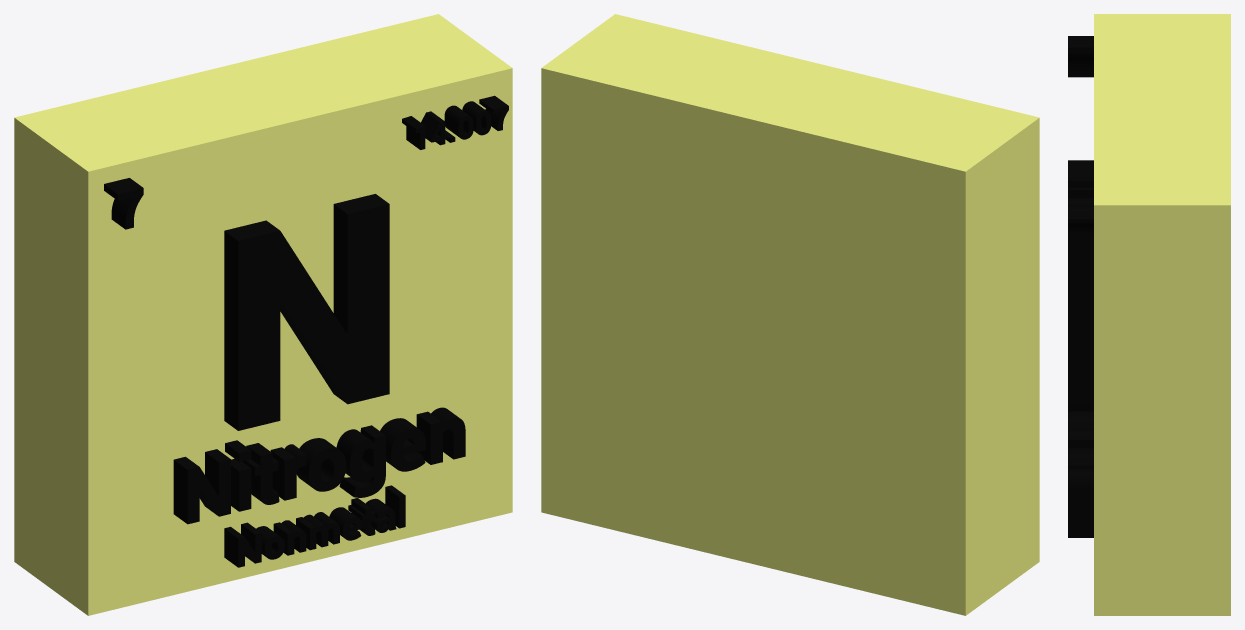
3 views of the same model, side by side, from view 1: azimuth 30°, elevation 25°; view 2: azimuth 150°, elevation 25°; view 3: azimuth 270°, elevation 25° (orthographic). The views are drawn at different scales.
Visible parts, largest first — view 1: Cube, Text, Text.001, Text.002, Text.004, Text.003; view 2: Cube; view 3: Cube, Text, Text.001, Text.004, Text.003, Text.002.
Boxes of the visible parts, x1,y1,x2,y2 form: Cube: (14, 14, 512, 615); Text: (224, 194, 389, 430); Text.001: (173, 407, 465, 524); Text.002: (224, 485, 405, 567); Text.004: (402, 95, 508, 149); Text.003: (104, 178, 143, 229); Cube: (541, 14, 1039, 615); Cube: (1094, 14, 1230, 615); Text: (1068, 160, 1093, 404); Text.001: (1068, 404, 1093, 513); Text.004: (1068, 177, 1093, 236); Text.003: (1068, 36, 1093, 77); Text.002: (1068, 513, 1093, 537).
Size of the model in its own units: 178 by 178 by 63.95.
